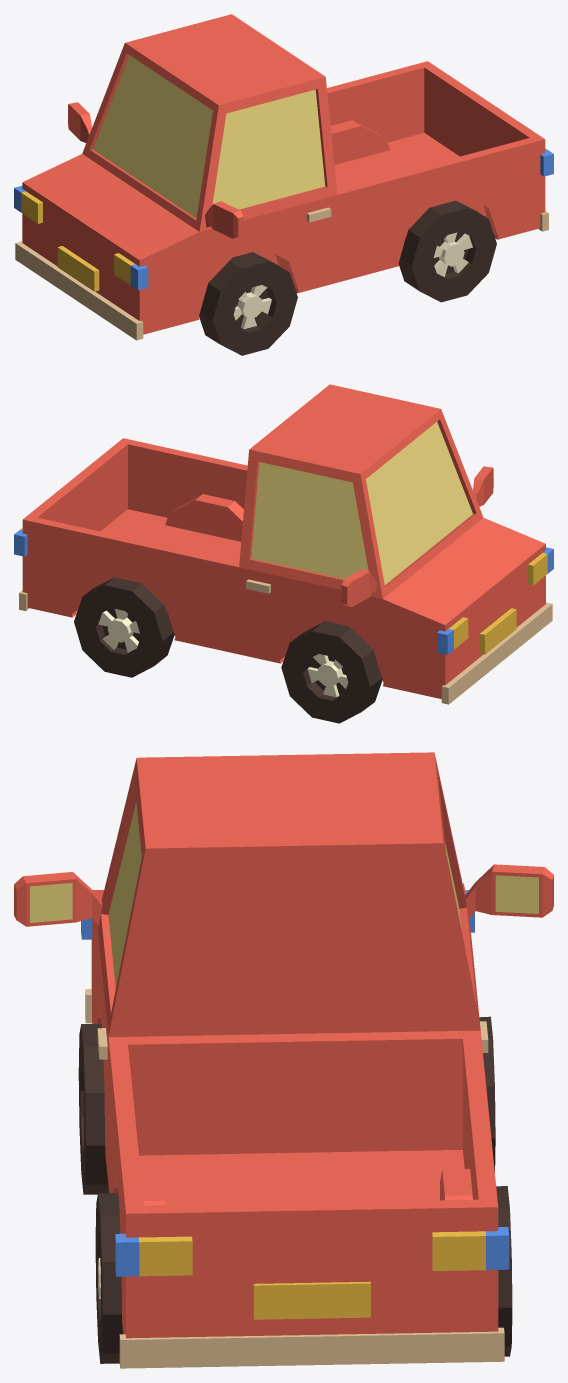
Rendered from PickupModel_v2.fbx.
3 renders of one model, top to bottom at view 1: azimuth 30°, elevation 25°; view 2: azimuth 150°, elevation 25°; view 3: azimuth 270°, elevation 25°, orthographic. The views are drawn at different scales.
Parts seen in each view (by area): view 1: Pickup; view 2: Pickup; view 3: Pickup.
Boxes of the visible parts, left/top/right/bottom form: Pickup: left=14, top=14, right=553, bottom=355; Pickup: left=14, top=384, right=553, bottom=723; Pickup: left=14, top=752, right=553, bottom=1368.
Bounding box in the file's own units: 560 × 297 × 354.
